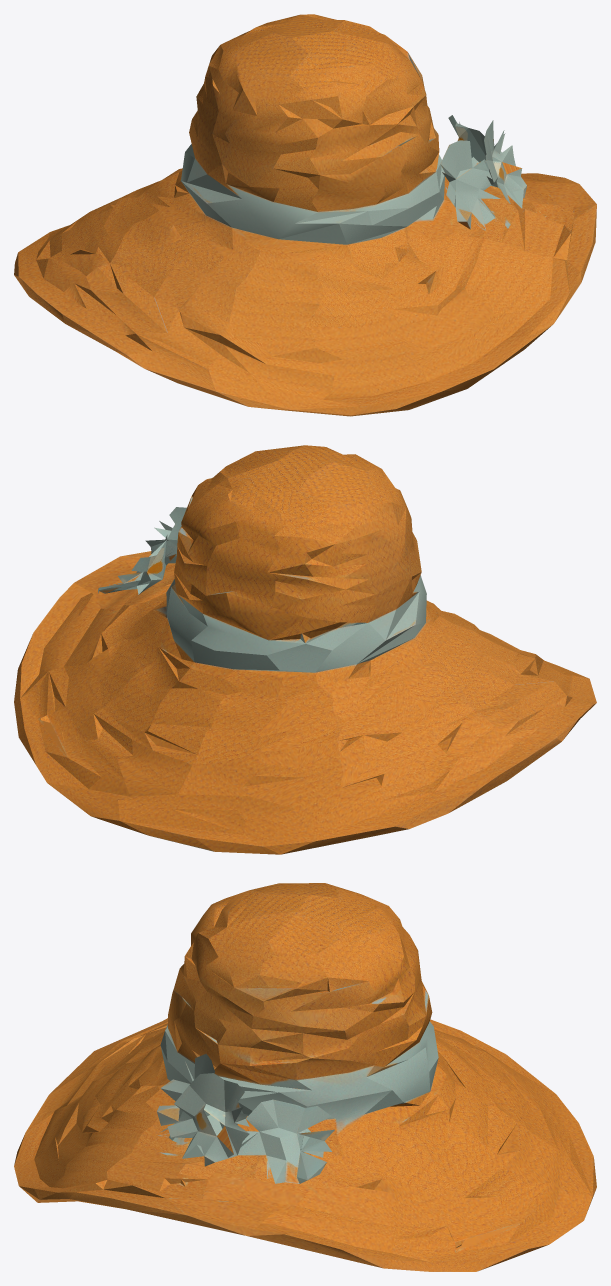
Rendered from straw_hat.glb.
3 renders of one model, top to bottom at view 1: azimuth 30°, elevation 25°; view 2: azimuth 150°, elevation 25°; view 3: azimuth 270°, elevation 25°, orthographic. The views are drawn at different scales.
Bounding box in the file's own units: 1.89 × 0.973 × 1.8.
1 material, 1 textured.
